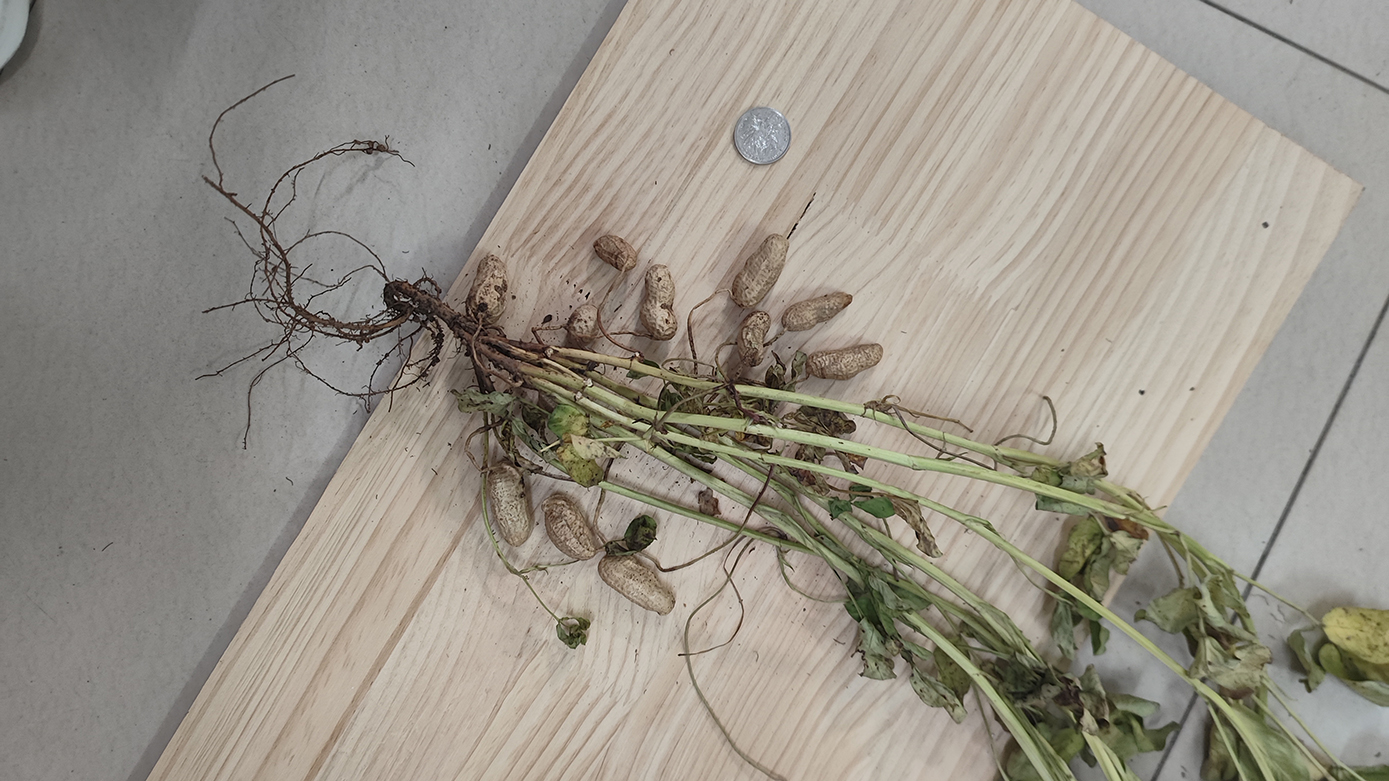h: (597, 550, 675, 614), (730, 233, 791, 310), (540, 496, 595, 561), (489, 463, 531, 545), (805, 342, 883, 382), (466, 254, 509, 323), (781, 292, 854, 332), (640, 265, 676, 340), (735, 310, 772, 367), (594, 233, 638, 271), (564, 301, 599, 346)
